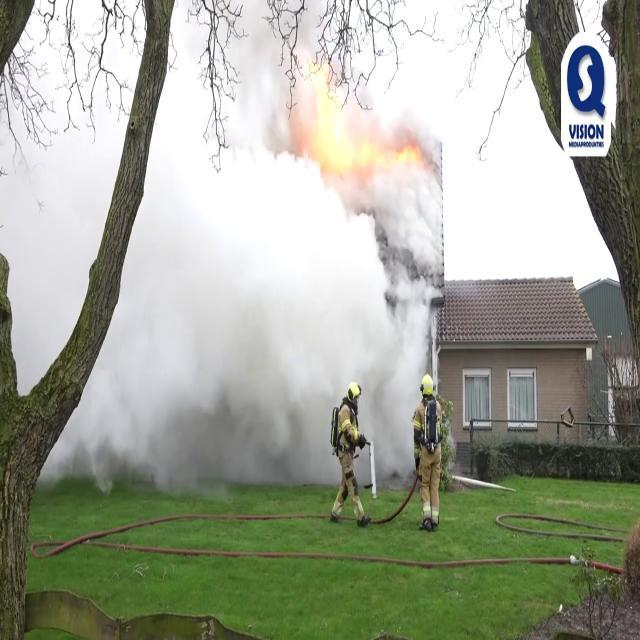Fire: (298, 49, 426, 188)
Smoke: (106, 1, 438, 472)
